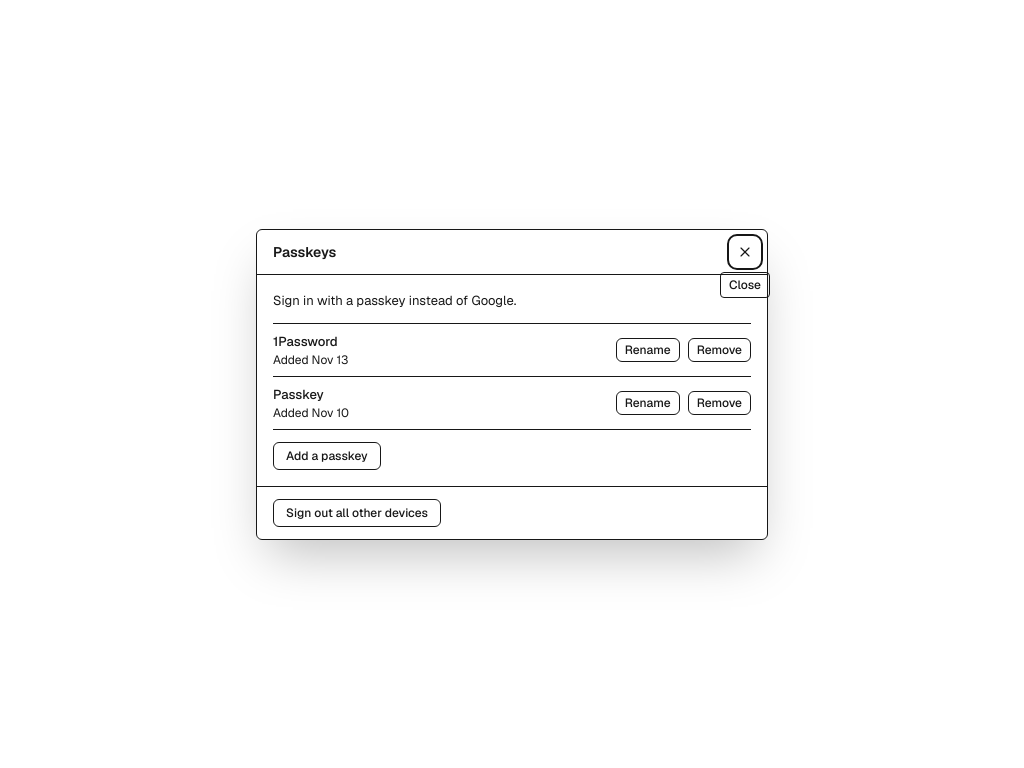
Test: adding a passkey › Add a passkey opens the browser's sheet, then the new one shows in the list
What coordinates should you click on to do the following:
click the button "Add a passkey"
I would click on:
 (327, 456)
Its box is [273,442,381,470].
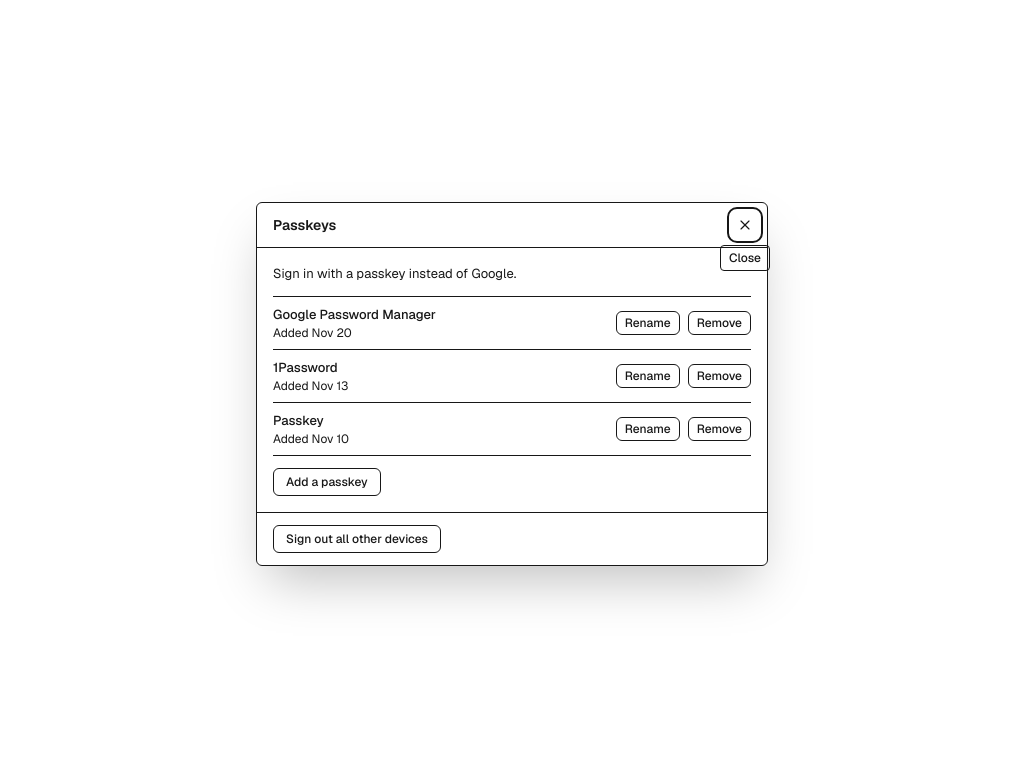
Expected: the number of list items is 3, [273,297,751,350]; [273,350,751,403]; [273,403,751,455]
Expected: the list item "Google Password Manager Added Nov 20 Rename Remove" is shown, [273,297,751,350]
